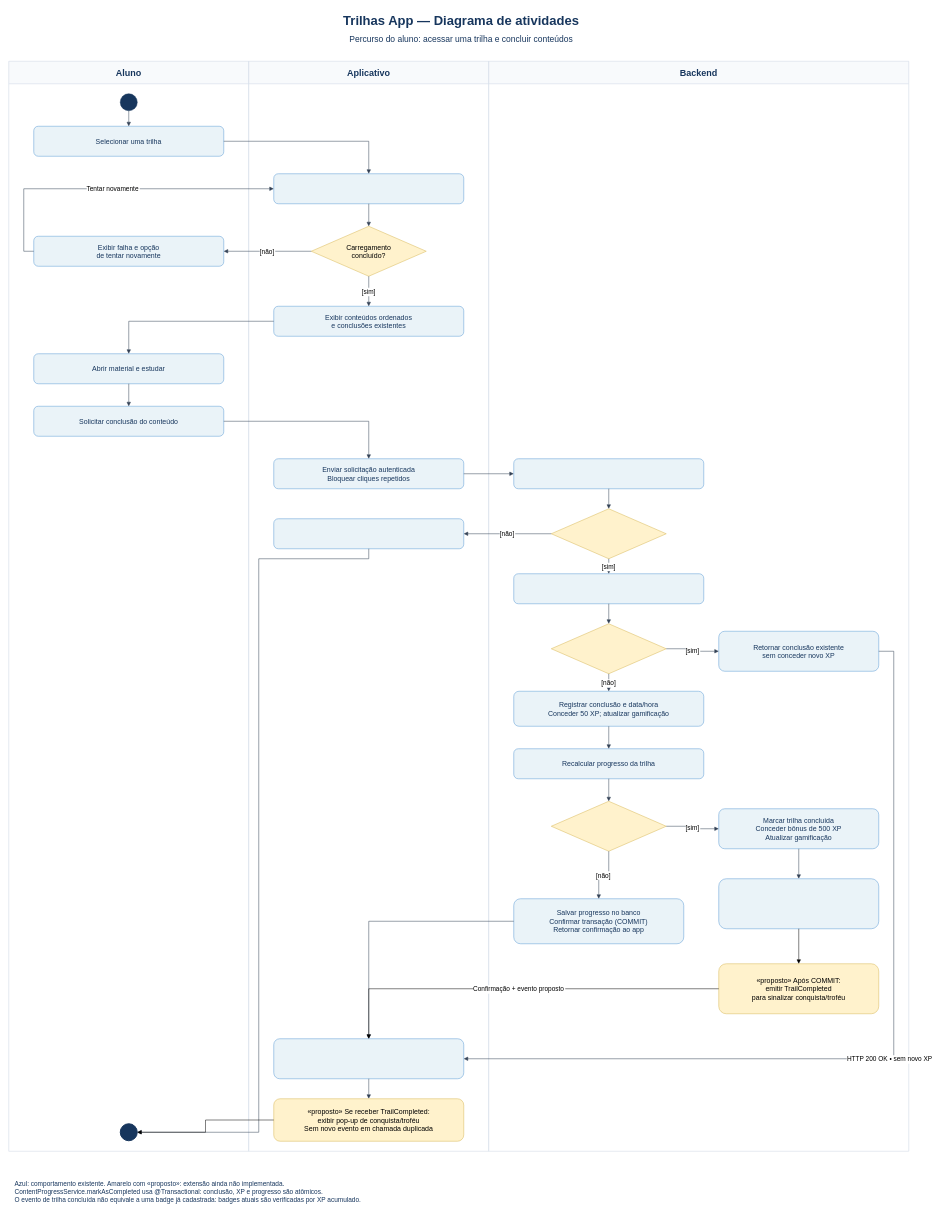
This 942x1222 diagram has some shape labels left out. The shapes that lost their labels are listed below. From the top down, each one's centre as x and y in pixels, then its label:
the point at 368,188: Carregar trilha, módulos, conteúdos e progresso
the point at 608,473: Validar autenticação e propriedade do perfil
the point at 368,533: Exibir erro de acesso
the point at 608,533: Acesso permitido?
the point at 608,588: Buscar aluno com lock, conteúdo e progresso
the point at 608,648: Conteúdo já concluído?
the point at 608,826: Atingiu 100% pela primeira vez?
the point at 798,903: Persistir 500 XP de bônus e estado concluído da trilha COMMIT da mesma transação
the point at 368,1058: Marcar conclusão na tela, invalidar caches de progresso/XP e avisar aluno
